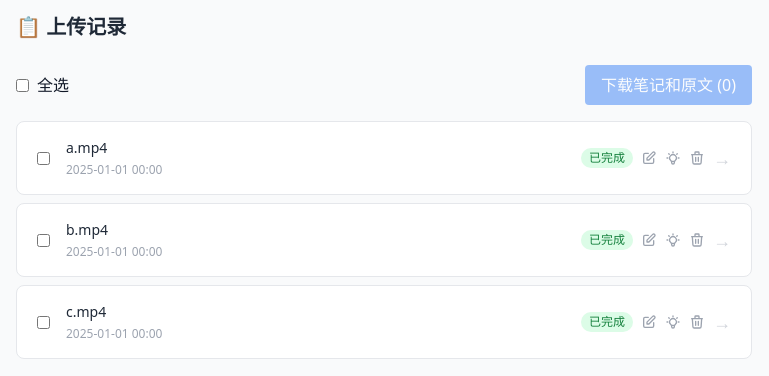
Test: VideoListPage - 选择逻辑 › 再次点击复选框取消选中
Step 1. Click the checkbox next to "a.mp4" → (44, 158), box left=37, top=152, right=50, bottom=164
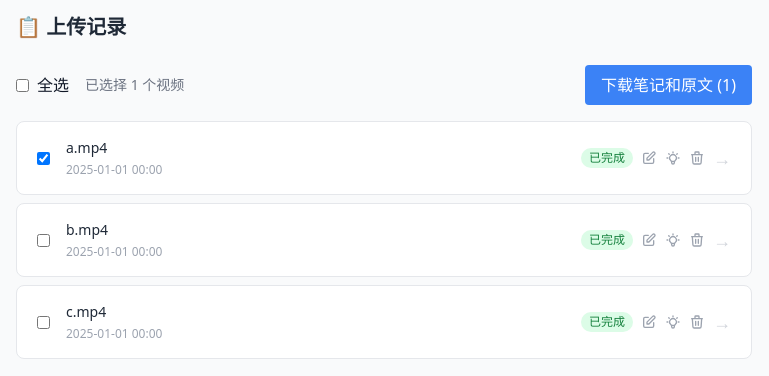
Step 2. Click the checkbox next to "a.mp4" → (44, 158), box left=37, top=152, right=50, bottom=164
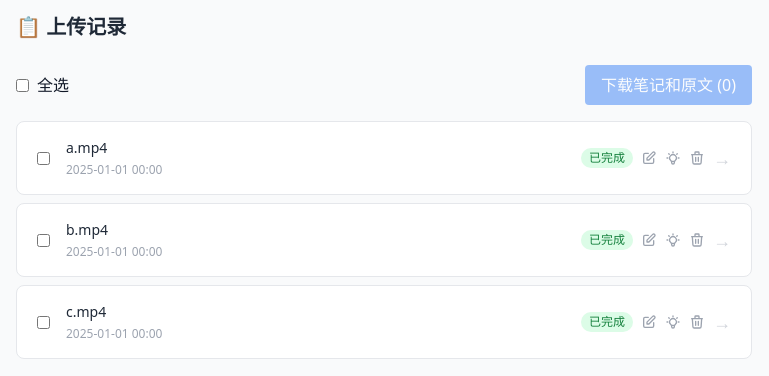
Check: the text "已选择" is gone
Check: the button "下载笔记和原文 (0)" is disabled, box left=585, top=65, right=752, bottom=105
